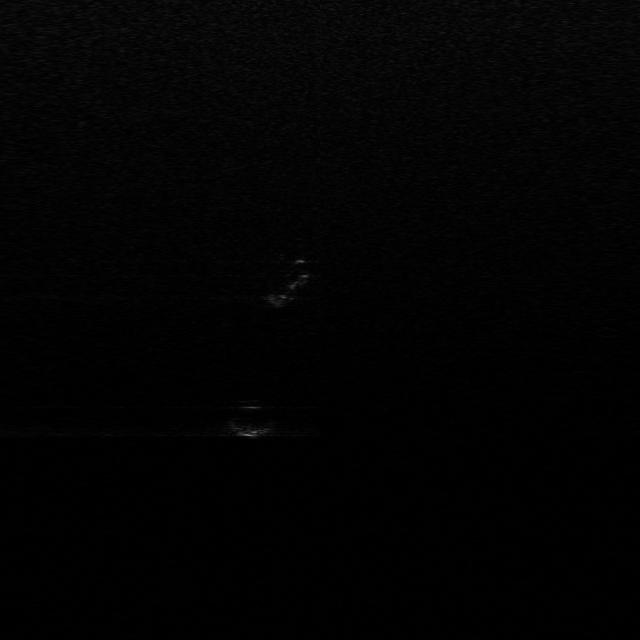ball: (227, 402, 277, 437)
tyre: (266, 258, 312, 306)
